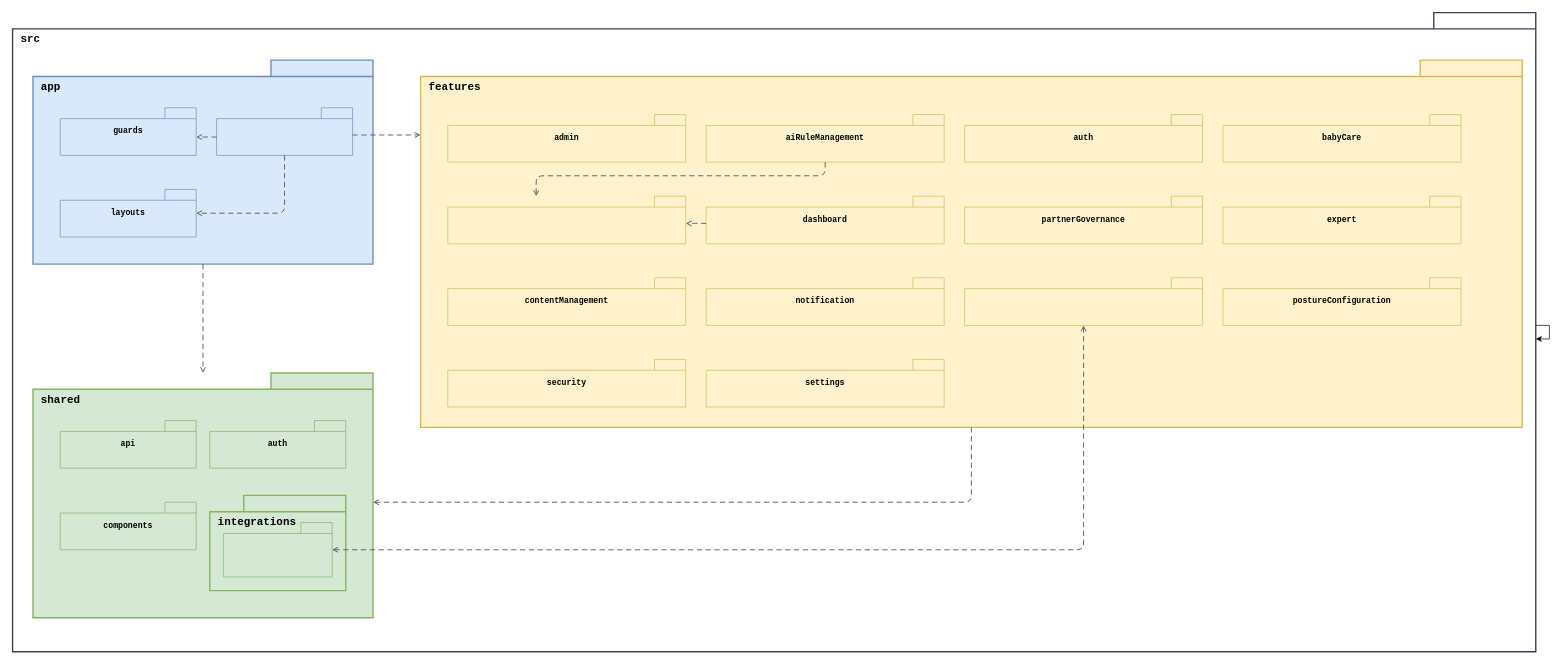
Some shapes in this 1567 by 664 pixel diagram are drawn without their labels. The centre of each missing label's shape, as x and y in pixels:
"directChat calls" belongs at pixel 1083 301.
"firebaseRealtime" belongs at pixel 277 549.
"moderation" belongs at pixel 566 220.
"router" belongs at pixel 284 131.
